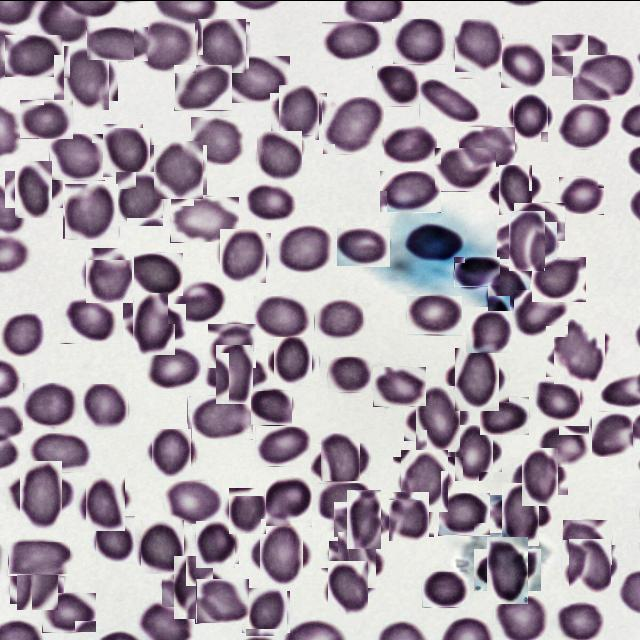red blood cell: (322, 96, 384, 154), (550, 321, 608, 380), (134, 20, 196, 72), (170, 196, 239, 242), (13, 467, 69, 523), (396, 452, 452, 508), (226, 55, 292, 102), (410, 390, 466, 445), (64, 184, 119, 239), (58, 50, 114, 104), (572, 54, 636, 100), (151, 142, 205, 196), (450, 352, 504, 406), (480, 542, 534, 596), (188, 395, 254, 439), (418, 78, 484, 122), (275, 225, 334, 273), (128, 296, 181, 349), (254, 526, 308, 578), (434, 147, 496, 191), (196, 19, 248, 71), (168, 560, 220, 612), (84, 248, 136, 300), (60, 296, 117, 343), (174, 64, 232, 110), (49, 133, 105, 180), (379, 170, 441, 212), (27, 432, 92, 472), (114, 172, 164, 224), (168, 278, 227, 322), (191, 116, 245, 164), (556, 103, 612, 149), (101, 124, 152, 174), (218, 230, 269, 280), (454, 19, 504, 70), (514, 289, 568, 336), (165, 480, 222, 524), (262, 476, 312, 526), (496, 488, 546, 538), (392, 18, 446, 64), (494, 595, 549, 640), (23, 382, 79, 426), (254, 295, 311, 338), (138, 521, 187, 571), (316, 436, 365, 486), (125, 252, 183, 294), (532, 256, 586, 301), (196, 578, 250, 623), (256, 130, 304, 180), (566, 540, 614, 590), (502, 216, 552, 264), (5, 34, 62, 76), (551, 34, 608, 76), (322, 21, 383, 60), (404, 223, 465, 262), (210, 349, 259, 397), (147, 346, 202, 388), (275, 88, 323, 136), (450, 428, 498, 476), (82, 478, 130, 526), (13, 558, 61, 606), (562, 519, 612, 565), (317, 480, 369, 524), (380, 124, 437, 164), (10, 165, 58, 212), (516, 452, 564, 499), (325, 563, 372, 611), (0, 310, 49, 356), (255, 426, 311, 466), (459, 126, 515, 166), (438, 492, 490, 535), (499, 39, 546, 86), (340, 495, 387, 542), (334, 536, 382, 582), (407, 294, 462, 334), (537, 425, 589, 467), (19, 99, 73, 139), (42, 592, 96, 632), (314, 298, 363, 342), (373, 366, 426, 406), (82, 383, 128, 429), (466, 306, 512, 352), (486, 263, 532, 309), (208, 323, 256, 367), (86, 26, 148, 60), (8, 540, 70, 574), (336, 227, 390, 266), (372, 65, 422, 106), (244, 588, 288, 634), (386, 494, 432, 538), (534, 379, 582, 421), (514, 202, 565, 240), (194, 521, 238, 565), (508, 94, 552, 138), (149, 430, 193, 474), (93, 517, 137, 561), (272, 339, 316, 383), (553, 603, 604, 640), (480, 396, 529, 434), (592, 411, 633, 456), (245, 186, 294, 222), (226, 489, 268, 531), (494, 168, 536, 210), (558, 176, 604, 214), (422, 571, 470, 607), (327, 356, 371, 392), (250, 390, 292, 425), (454, 256, 500, 286)
